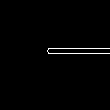L_W: (6, 40, 104, 70)
